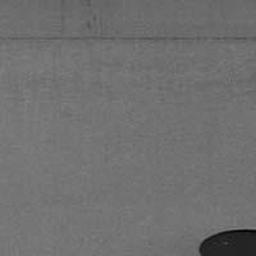Punching: (198, 228, 256, 256)
